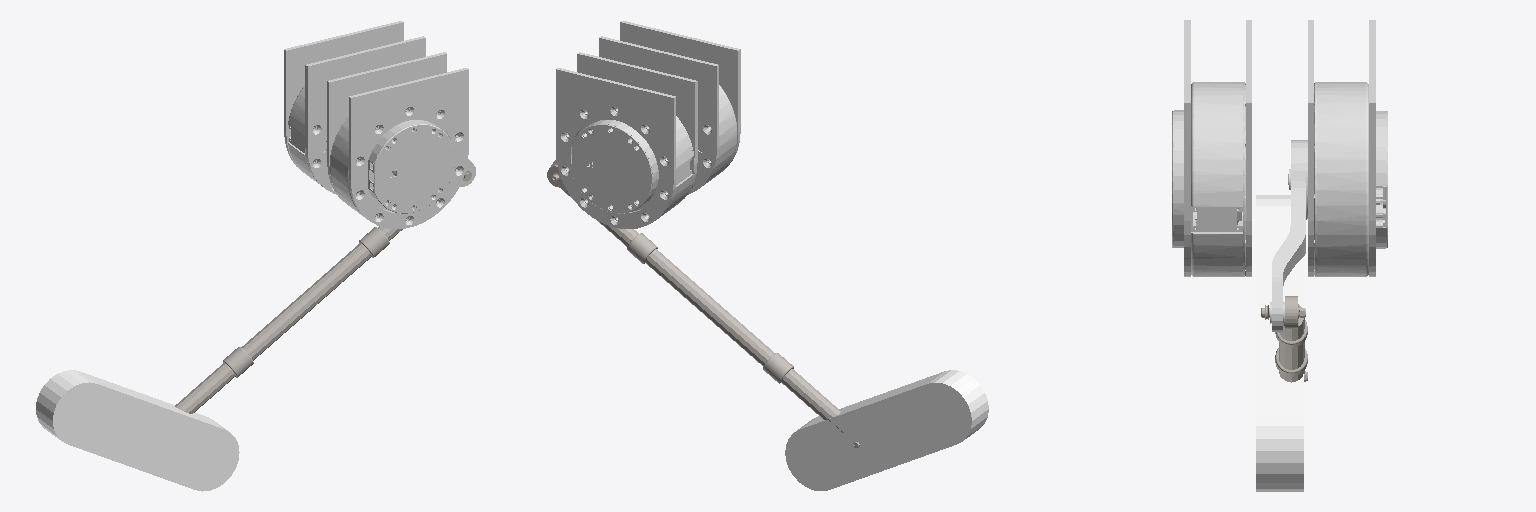
robot.urdf — flyhopper_robot_1_2:
<?xml version="1.0" encoding="utf-8"?>
<!-- This URDF was automatically created by SolidWorks to URDF Exporter! Originally created by [author] ([email redacted]) 
     Commit Version: 1.5.1-0-g916b5db  Build Version: 1.5.7152.31018
     For more information, please see http://wiki.ros.org/sw_urdf_exporter -->
<robot
  name="flyhopper_robot_1_2">
  <link
    name="base_link">
    <inertial>
      <origin
        xyz="7.17026732842913E-17 -6.23615652595905E-16 0.00394932816868779"
        rpy="0 0 0" />
      <mass
        value="7" />
      <inertia
        ixx="0.00241176433674345"
        ixy="5.25197372589955E-06"
        ixz="-4.53788915564169E-19"
        iyy="0.00439736891705812"
        iyz="-5.41783114133265E-19"
        izz="0.00224014055283729" />
    </inertial>
    <visual>
      <origin
        xyz="0 0 0"
        rpy="0 0 0" />
      <geometry>
        <mesh
          filename="package://flyhopper_robot_1_2/meshes/base_link.STL" />
      </geometry>
      <material
        name="">
        <color
          rgba="0.898039215686275 0.898039215686275 0.898039215686275 1" />
      </material>
    </visual>
    <collision>
      <origin
        xyz="0 0 0"
        rpy="0 0 0" />
      <geometry>
        <mesh
          filename="package://flyhopper_robot_1_2/meshes/base_link.STL" />
      </geometry>
    </collision>
  </link>
  <link
    name="Link 0">
    <inertial>
      <origin
        xyz="0.012752911848301 0.0182883341709308 0.00117942263488526"
        rpy="0 0 0" />
      <mass
        value="0.244971463222217" />
      <inertia
        ixx="3.80451720740566E-05"
        ixy="1.53797230167211E-05"
        ixz="-8.48319041670319E-06"
        iyy="0.000172566031790276"
        iyz="1.08265612865862E-06"
        izz="0.000148402606311374" />
    </inertial>
    <visual>
      <origin
        xyz="0 0 0"
        rpy="0 0 0" />
      <geometry>
        <mesh
          filename="package://flyhopper_robot_1_2/meshes/Link 0.STL" />
      </geometry>
      <material
        name="">
        <color
          rgba="0.898039215686275 0.898039215686275 0.898039215686275 1" />
      </material>
    </visual>
    <collision>
      <origin
        xyz="0 0 0"
        rpy="0 0 0" />
      <geometry>
        <mesh
          filename="package://flyhopper_robot_1_2/meshes/Link 0.STL" />
      </geometry>
    </collision>
  </link>
  <joint
    name="Joint 0"
    type="revolute">
    <origin
      xyz="0 0 0"
      rpy="0 0.5236 0" />
    <parent
      link="base_link" />
    <child
      link="Link 0" />
    <axis
      xyz="0 -1 0" />
    <limit
      lower="-3.14"
      upper="3.14"
      effort="0"
      velocity="0" />
  </joint>
  <link
    name="Link 1">
    <inertial>
      <origin
        xyz="0.179288103589152 0.00671733391559753 -8.03926425430035E-09"
        rpy="0 0 0" />
      <mass
        value="0.0764069490430674" />
      <inertia
        ixx="3.38865240679564E-06"
        ixy="7.84778844906349E-12"
        ixz="-1.40724378446836E-12"
        iyy="0.000269070906152242"
        iyz="1.31128545798464E-11"
        izz="0.000268994563278738" />
    </inertial>
    <visual>
      <origin
        xyz="0 0 0"
        rpy="0 0 0" />
      <geometry>
        <mesh
          filename="package://flyhopper_robot_1_2/meshes/Link 1.STL" />
      </geometry>
      <material
        name="">
        <color
          rgba="0.776470588235294 0.756862745098039 0.737254901960784 1" />
      </material>
    </visual>
    <collision>
      <origin
        xyz="0 0 0"
        rpy="0 0 0" />
      <geometry>
        <mesh
          filename="package://flyhopper_robot_1_2/meshes/Link 1.STL" />
      </geometry>
    </collision>
  </link>
  <joint
    name="Joint 1"
    type="revolute">
    <origin
      xyz="0.1 0 0"
      rpy="3.1416 1.0691 3.1416" />
    <parent
      link="Link 0" />
    <child
      link="Link 1" />
    <axis
      xyz="0 -1 0" />
    <limit
      lower="-0.7597"
      upper="0.8295"
      effort="0"
      velocity="0" />
  </joint>
  <link
    name="Link 2">
    <inertial>
      <origin
        xyz="0.0578580132990367 -0.0167928276914541 -0.000909754751345762"
        rpy="0 0 0" />
      <mass
        value="0.281647590019912" />
      <inertia
        ixx="3.45798611536378E-05"
        ixy="-2.73582667729002E-07"
        ixz="8.47489856292288E-06"
        iyy="0.000455325533747908"
        iyz="2.32328830723729E-08"
        izz="0.000435885463900599" />
    </inertial>
    <visual>
      <origin
        xyz="0 0 0"
        rpy="0 0 0" />
      <geometry>
        <mesh
          filename="package://flyhopper_robot_1_2/meshes/Link 2.STL" />
      </geometry>
      <material
        name="">
        <color
          rgba="0.898039215686275 0.898039215686275 0.898039215686275 1" />
      </material>
    </visual>
    <collision>
      <origin
        xyz="0 0 0"
        rpy="0 0 0" />
      <geometry>
        <mesh
          filename="package://flyhopper_robot_1_2/meshes/Link 2.STL" />
      </geometry>
    </collision>
  </link>
  <joint
    name="Joint 2"
    type="revolute">
    <origin
      xyz="0 0 0"
      rpy="3.1416 0.54581 -3.1416" />
    <parent
      link="base_link" />
    <child
      link="Link 2" />
    <axis
      xyz="0 -1 0" />
    <limit
      lower="-3.14"
      upper="3.14"
      effort="0"
      velocity="0" />
  </joint>
  <link
    name="Link 3">
    <inertial>
      <origin
        xyz="0.131058413120743 -0.0023882784805291 -0.0151331474869764"
        rpy="0 0 0" />
      <mass
        value="0.131364338843925" />
      <inertia
        ixx="1.65368722969573E-05"
        ixy="-5.56562330530873E-07"
        ixz="1.00362426286782E-06"
        iyy="0.000282037097770419"
        iyz="1.071194769432E-07"
        izz="0.000278477903341092" />
    </inertial>
    <visual>
      <origin
        xyz="0 0 0"
        rpy="0 0 0" />
      <geometry>
        <mesh
          filename="package://flyhopper_robot_1_2/meshes/Link 3.STL" />
      </geometry>
      <material
        name="">
        <color
          rgba="1 1 1 1" />
      </material>
    </visual>
    <collision>
      <origin
        xyz="0 0 0"
        rpy="0 0 0" />
      <geometry>
        <mesh
          filename="package://flyhopper_robot_1_2/meshes/Link 3.STL" />
      </geometry>
    </collision>
  </link>
  <joint
    name="Joint 3"
    type="revolute">
    <origin
      xyz="0.36018 0 0"
      rpy="-3.1416 -1.0674 3.1416" />
    <parent
      link="Link 2" />
    <child
      link="Link 3" />
    <axis
      xyz="0 -1 0" />
    <limit
      lower="-0.8295"
      upper="0.7597"
      effort="0"
      velocity="0" />
  </joint>
</robot>

--- What the picture shows (computed from the rendered views, not written in the file) ---
The picture shows the robot from 3 angles, left to right: view 1: azimuth 30°, elevation 25°; view 2: azimuth 150°, elevation 25°; view 3: azimuth 270°, elevation 25°; orthographic projection.
Model flyhopper_robot_1_2 with 5 links and 4 joints (4 revolute), rooted at base_link, posed all joints at 0.
Links seen in each view (by area): view 1: base_link, Link 3, Link 1; view 2: base_link, Link 3, Link 1; view 3: base_link, Link 3, Link 0, Link 1.
Boxes of the visible links, x1,y1,x2,y2 form: base_link: (284,21,468,228); Link 3: (36,370,239,491); Link 1: (175,170,471,413); base_link: (556,21,740,228); Link 3: (785,370,988,490); Link 1: (547,164,859,447); base_link: (1172,20,1387,276); Link 3: (1256,195,1303,491); Link 0: (1270,140,1307,331); Link 1: (1261,296,1307,382).
Bounding box of the posed robot: 0.4364 × 0.1326 × 0.3717 m (x, y, z).
4 mesh visuals loaded from 5 distinct referenced files (4 binary STL); not drawn: 1 (reference not matched to a file when rendering).